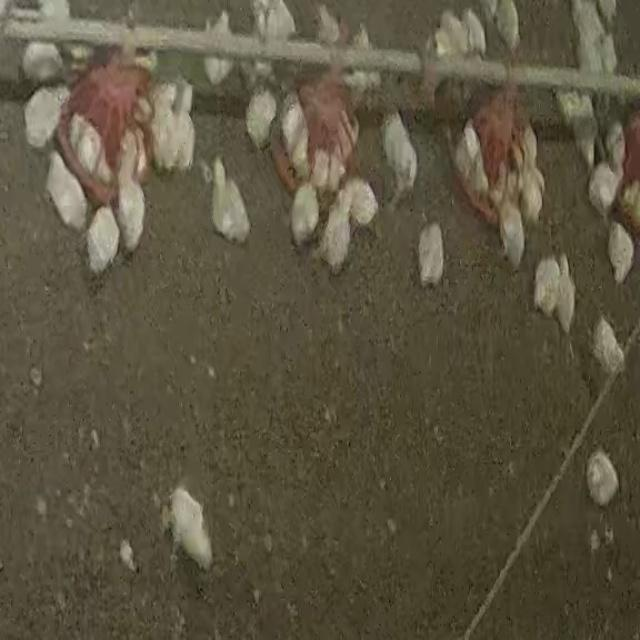chicken: (167, 485, 214, 572), (44, 150, 91, 233), (212, 157, 253, 247), (23, 0, 66, 85), (380, 110, 419, 201), (316, 189, 354, 272), (22, 84, 68, 151), (201, 10, 238, 89), (115, 168, 146, 254), (86, 203, 122, 274), (279, 92, 310, 170), (244, 85, 280, 152), (165, 97, 197, 172), (516, 156, 551, 223), (585, 448, 620, 509), (586, 158, 622, 217), (416, 222, 450, 282), (592, 318, 626, 378), (290, 182, 321, 246), (74, 118, 105, 180), (532, 254, 562, 318), (498, 202, 526, 270), (554, 252, 577, 334), (116, 123, 143, 190), (147, 76, 191, 117), (344, 177, 380, 227), (345, 22, 371, 91), (606, 220, 634, 284), (263, 0, 298, 42), (492, 0, 520, 52), (308, 146, 338, 194), (438, 9, 468, 55), (461, 8, 488, 58), (314, 4, 344, 44), (604, 120, 626, 172), (461, 122, 483, 174), (470, 148, 491, 200), (599, 31, 618, 76), (521, 121, 539, 167), (250, 1, 270, 41), (432, 25, 454, 57)
